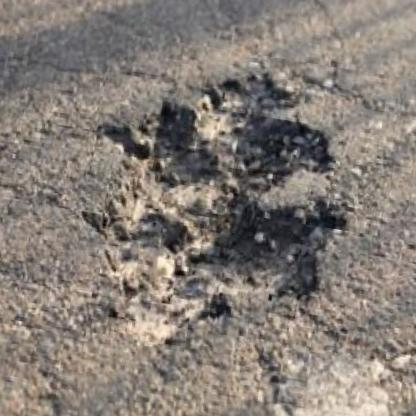pothole: (64, 49, 364, 372)
